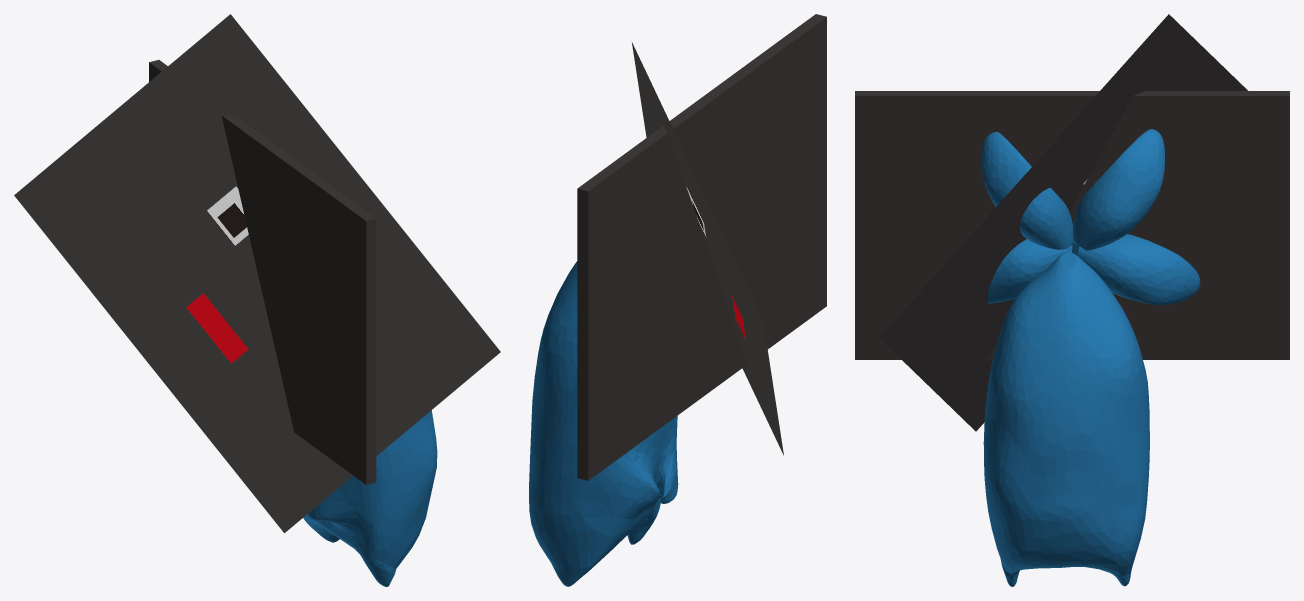
The model's file is PCyamabuki.glb.
3 renders of one model, left to right at view 1: azimuth 30°, elevation 25°; view 2: azimuth 150°, elevation 25°; view 3: azimuth 270°, elevation 25°, orthographic. The views are drawn at different scales.
Visible parts, largest first — view 1: 平面, 立方体, 球.002; view 2: 立方体, 球.002, 平面; view 3: 立方体, 球.002, 平面, 円柱.020.
Boxes of the visible parts, box(x1,y1,x2,y2) form: 平面: box(14, 14, 500, 532); 立方体: box(149, 60, 376, 484); 球.002: box(303, 410, 437, 586); 立方体: box(577, 14, 826, 480); 球.002: box(529, 261, 678, 586); 平面: box(632, 42, 783, 455); 立方体: box(855, 91, 1289, 359); 球.002: box(983, 252, 1149, 586); 平面: box(879, 14, 1247, 431); 円柱.020: box(982, 129, 1200, 304).
Bounding box in the file's own units: 1.81 × 3.04 × 2.24.
Materials: 3 (1 with a texture image).
